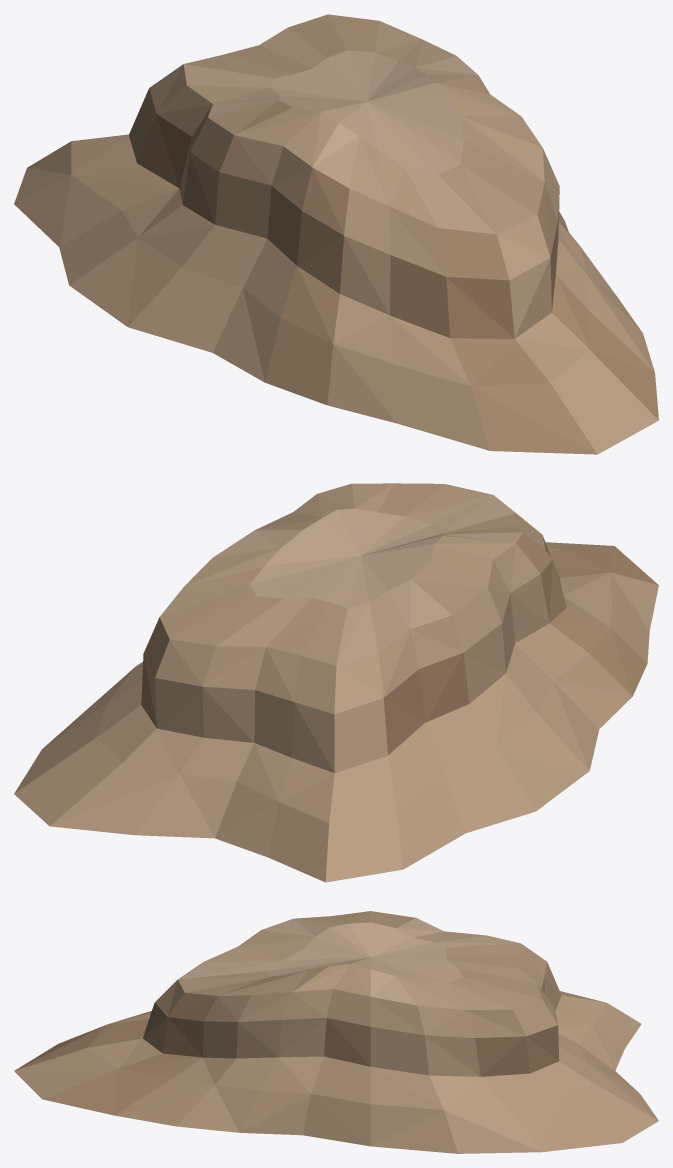
File: EastEscarpment.fbx
3 renders of one model, top to bottom at view 1: azimuth 30°, elevation 25°; view 2: azimuth 150°, elevation 25°; view 3: azimuth 270°, elevation 25°, orthographic. The views are drawn at different scales.
Parts seen in each view (by area): view 1: EastEscarpment; view 2: EastEscarpment; view 3: EastEscarpment.
Part boxes in pixels (x1=…): EastEscarpment: x1=14, y1=14, x2=658, y2=454; EastEscarpment: x1=14, y1=483, x2=658, y2=882; EastEscarpment: x1=14, y1=911, x2=658, y2=1153.
Size of the model in its own units: 8400 by 3200 by 14200.
Materials: 1 (1 with a texture image).
